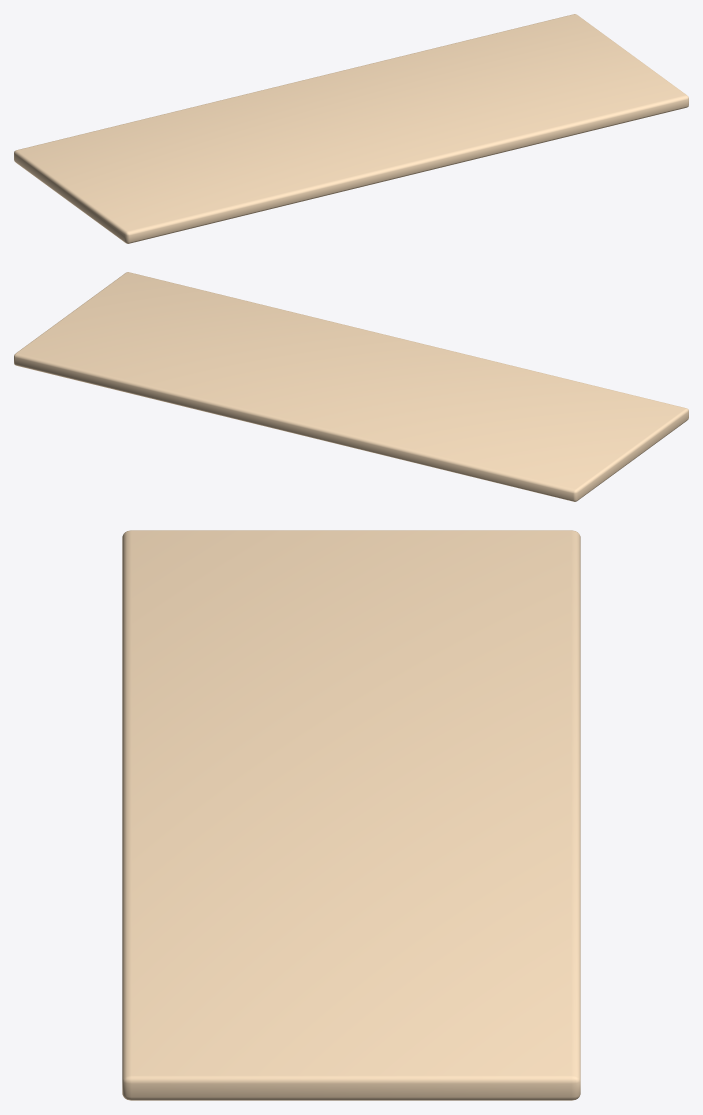
Rendered from ground.fbx.
3 views of the same model, one above another, from view 1: azimuth 30°, elevation 25°; view 2: azimuth 150°, elevation 25°; view 3: azimuth 270°, elevation 25° (orthographic). The views are drawn at different scales.
Visible parts, largest first — view 1: Cube; view 2: Cube; view 3: Cube.
Part boxes in pixels (x1,y1,x2,y2): Cube: (14,14,688,243); Cube: (14,272,688,501); Cube: (122,530,580,1100).
Size of the model in its own units: 1673 by 34.9 by 589.
